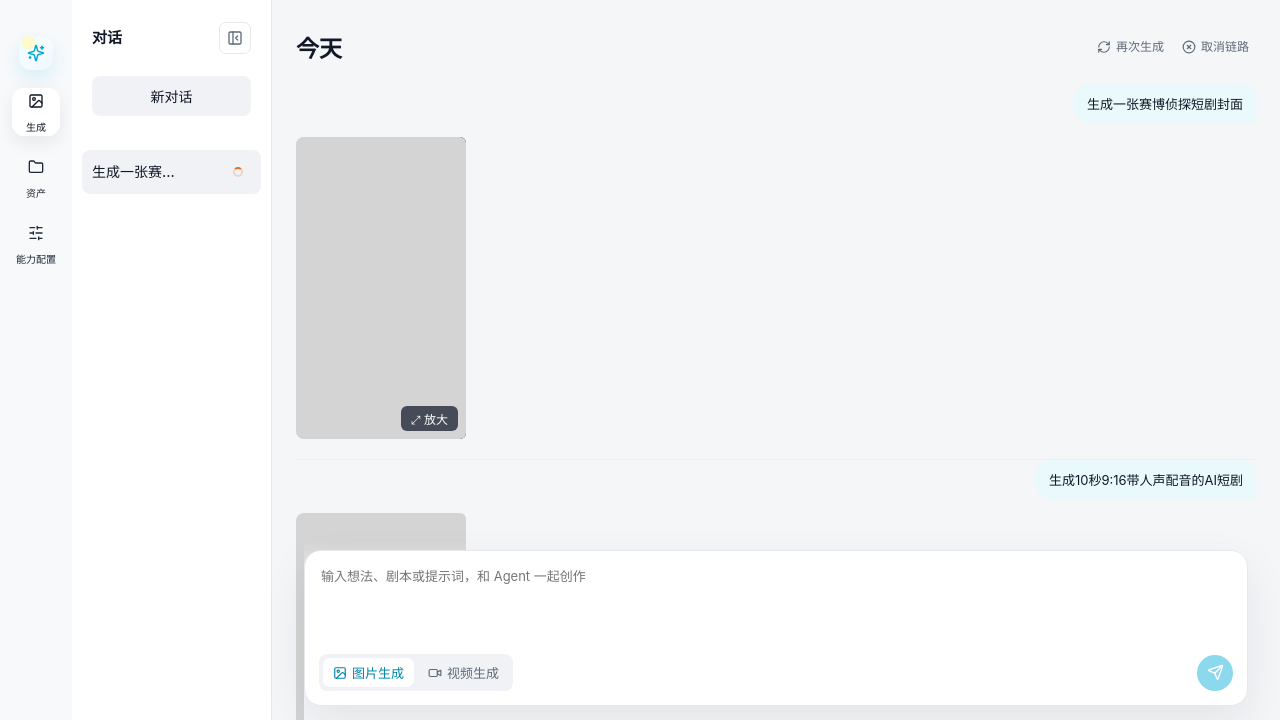
Test: frontend chain flows › cancels an executing chain from the workspace action
Click the button "取消链路" at [1216, 47], box [1175,33,1256,61]
(page scrolled)
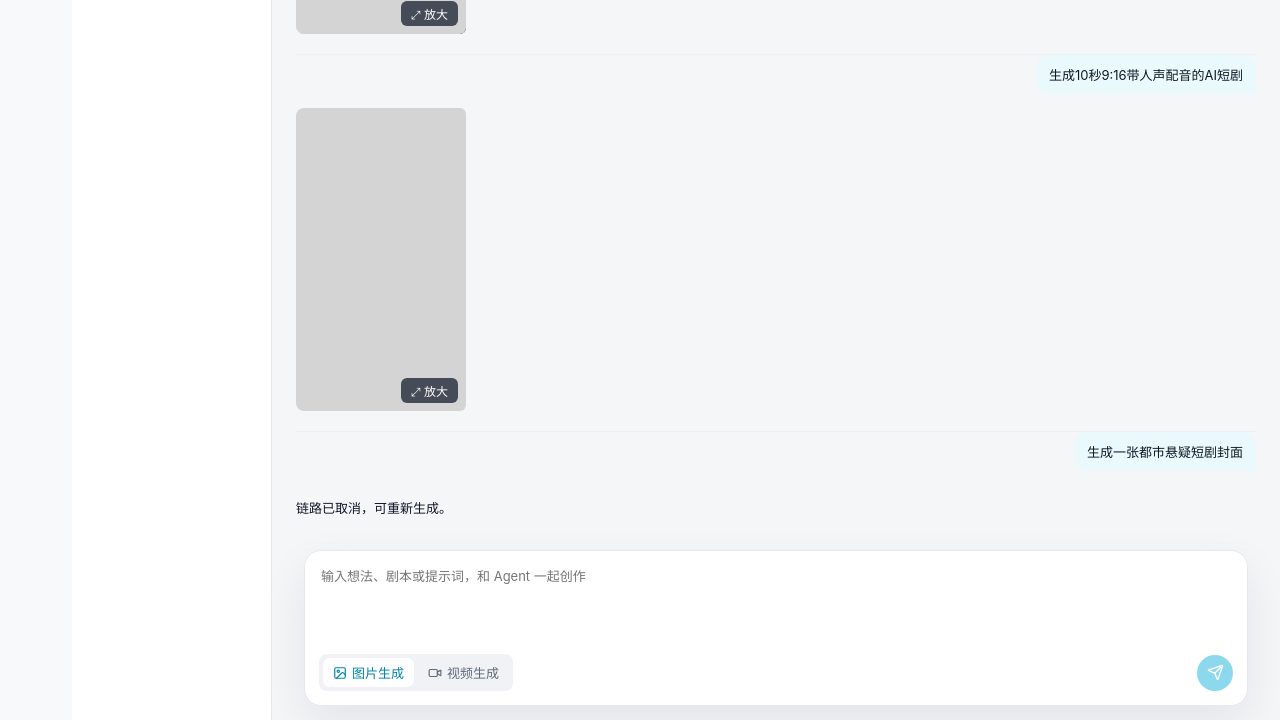
Check: the text "链路已取消，可重新生成。" is shown, box [296,500,452,516]
